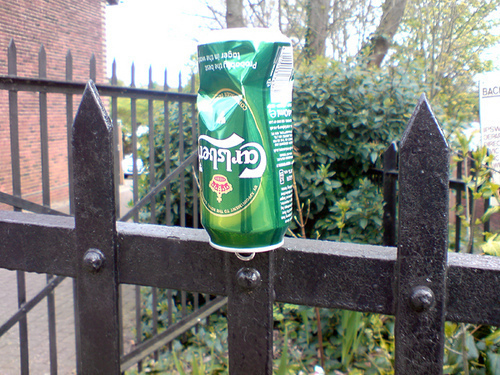litter: (195, 26, 292, 260)
